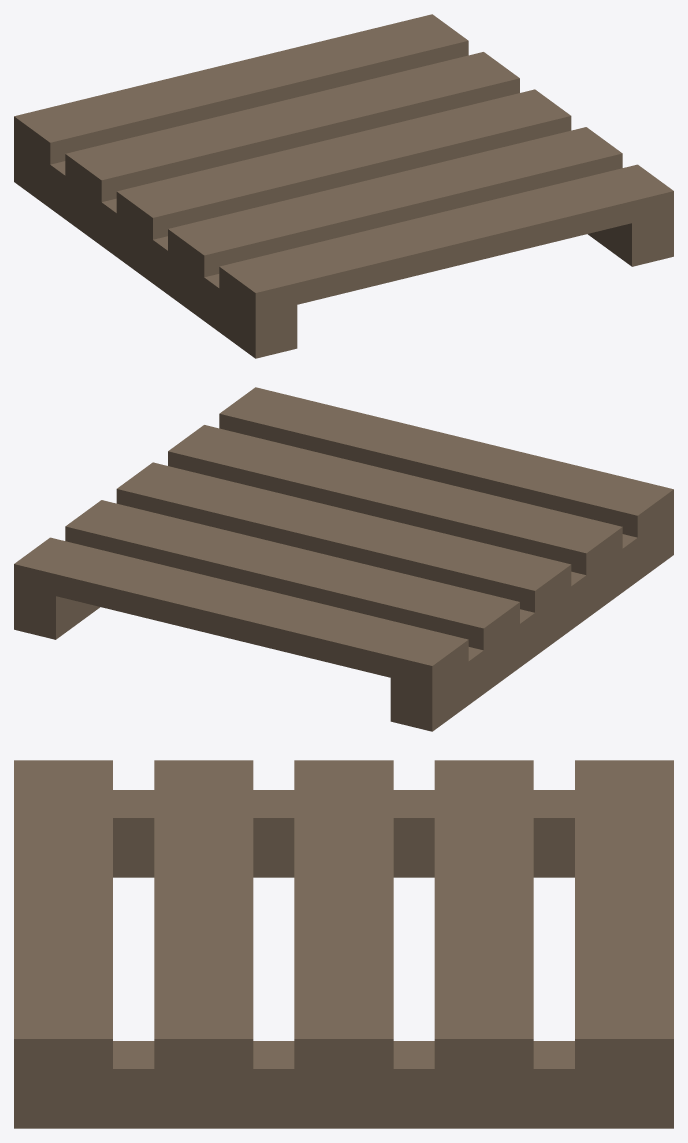
The model's file is pallet.obj.
3 views of the same model, one above another, from view 1: azimuth 30°, elevation 25°; view 2: azimuth 150°, elevation 25°; view 3: azimuth 270°, elevation 25° (orthographic). The views are drawn at different scales.
Bounding box in the file's own units: 1 × 0.15 × 1.
